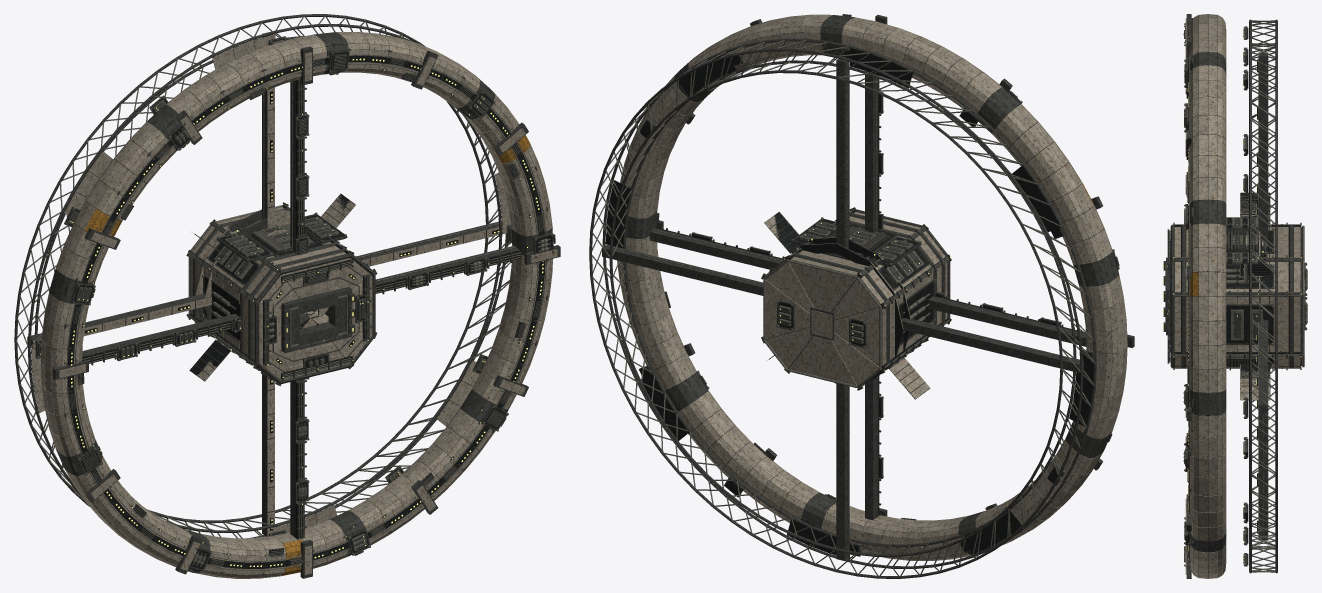
Rendered from trade-wheel.glb.
3 renders of one model, left to right at view 1: azimuth 30°, elevation 25°; view 2: azimuth 150°, elevation 25°; view 3: azimuth 270°, elevation 25°, orthographic. The views are drawn at different scales.
Visible parts, largest first — view 1: static/dark-structure, static/machined-alloy, static/cladding-armour-1, static/recess-black, static/cladding-armour-2, static/cladding-armour-0, static/cladding-armour-3, static/cladding-dark-structure, static/plate-backing, static/armour-1, static/cladding-service-ochre, static/amber-lamp; view 2: static/dark-structure, static/cladding-armour-0, static/machined-alloy, static/cladding-armour-2, static/cladding-armour-1, static/cladding-armour-3, static/plate-backing, static/cladding-dark-structure, static/recess-black; view 3: static/dark-structure, static/machined-alloy, static/cladding-armour-1, static/cladding-armour-3, static/cladding-armour-2, static/cladding-armour-0, static/recess-black, static/plate-backing, static/cladding-dark-structure, static/armour-1, static/amber-lamp, static/cladding-service-ochre.
Boxes of the visible parts, bbox=[...] form: static/dark-structure: bbox=[14, 14, 560, 578]; static/machined-alloy: bbox=[16, 15, 554, 571]; static/cladding-armour-1: bbox=[32, 32, 552, 578]; static/recess-black: bbox=[37, 38, 552, 569]; static/cladding-armour-2: bbox=[31, 32, 552, 577]; static/cladding-armour-0: bbox=[41, 33, 552, 578]; static/cladding-armour-3: bbox=[41, 34, 552, 578]; static/cladding-dark-structure: bbox=[49, 32, 552, 573]; static/plate-backing: bbox=[31, 33, 549, 574]; static/armour-1: bbox=[59, 52, 557, 574]; static/cladding-service-ochre: bbox=[85, 135, 529, 576]; static/amber-lamp: bbox=[40, 43, 543, 566]; static/dark-structure: bbox=[589, 14, 1134, 578]; static/cladding-armour-0: bbox=[618, 14, 1127, 560]; static/machined-alloy: bbox=[591, 40, 1119, 576]; static/cladding-armour-2: bbox=[619, 14, 1126, 560]; static/cladding-armour-1: bbox=[622, 16, 1127, 560]; static/cladding-armour-3: bbox=[617, 14, 1127, 560]; static/plate-backing: bbox=[605, 21, 1125, 558]; static/cladding-dark-structure: bbox=[626, 15, 1118, 555]; static/recess-black: bbox=[639, 15, 1117, 555]; static/dark-structure: bbox=[1163, 14, 1307, 578]; static/machined-alloy: bbox=[1165, 20, 1306, 572]; static/cladding-armour-1: bbox=[1190, 14, 1304, 577]; static/cladding-armour-3: bbox=[1174, 15, 1300, 578]; static/cladding-armour-2: bbox=[1174, 14, 1263, 578]; static/cladding-armour-0: bbox=[1190, 15, 1300, 577]; static/recess-black: bbox=[1170, 27, 1300, 565]; static/plate-backing: bbox=[1190, 14, 1300, 578]; static/cladding-dark-structure: bbox=[1190, 52, 1260, 552]; static/armour-1: bbox=[1185, 18, 1186, 574]; static/amber-lamp: bbox=[1163, 30, 1307, 562]; static/cladding-service-ochre: bbox=[1190, 272, 1198, 296].
Bounding box in the file's own units: 1735 × 1735 × 444.
Materials: 9 (8 with a texture image).
